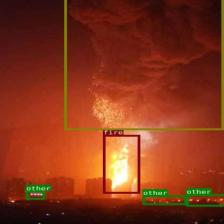fire: (102, 135, 140, 193)
smoke: (64, 0, 224, 130)
